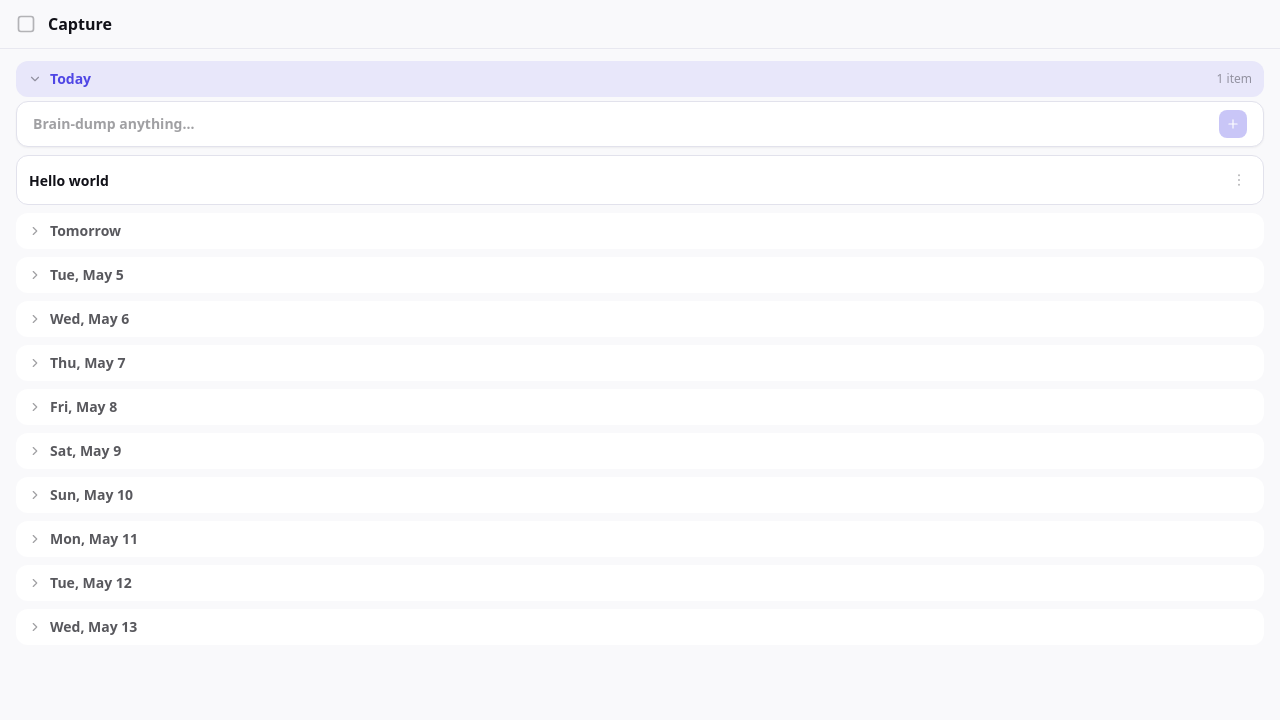
Scenario: Capture › 4a-4: 3-dot menu opens with expected options
Click the button named "Note options".
click(1239, 180)  # box [1227, 168, 1251, 192]
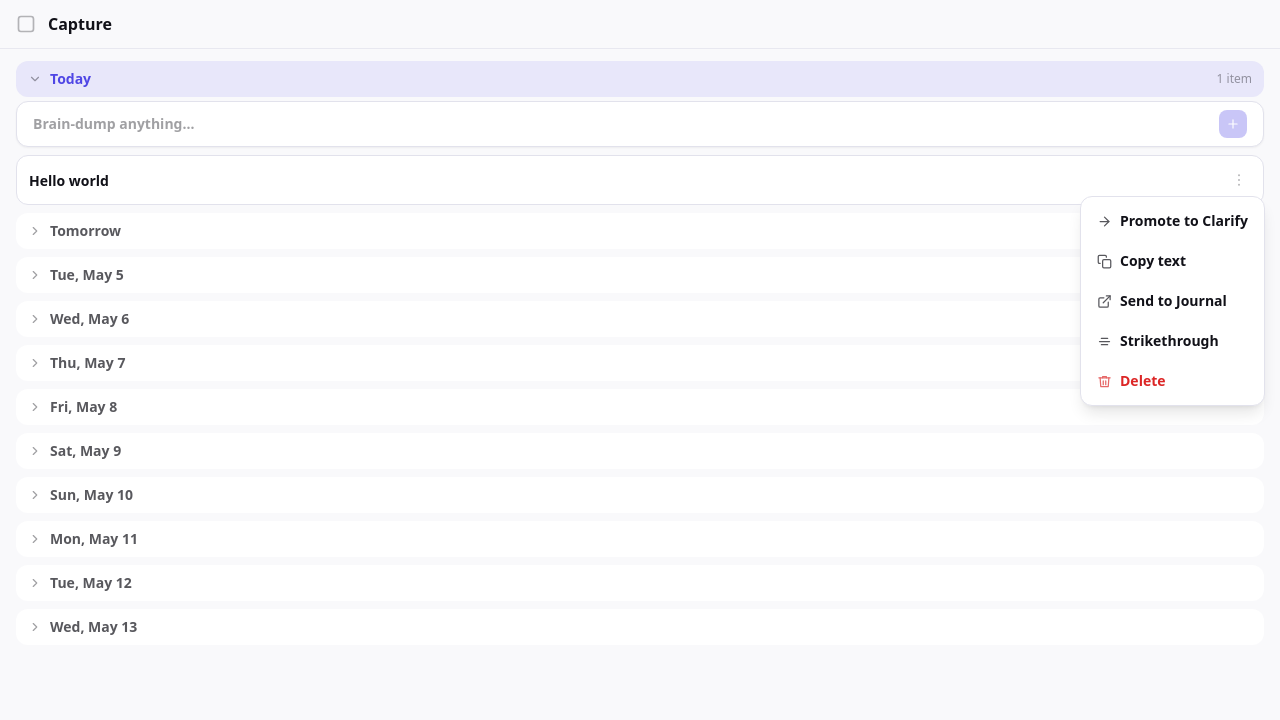
Expected: the button "Promote to Clarify" is shown, [1081, 201, 1264, 241]
Expected: the button "Strikethrough" is shown, [1081, 321, 1264, 361]
Expected: the button "Delete" is shown, [1081, 361, 1264, 401]
